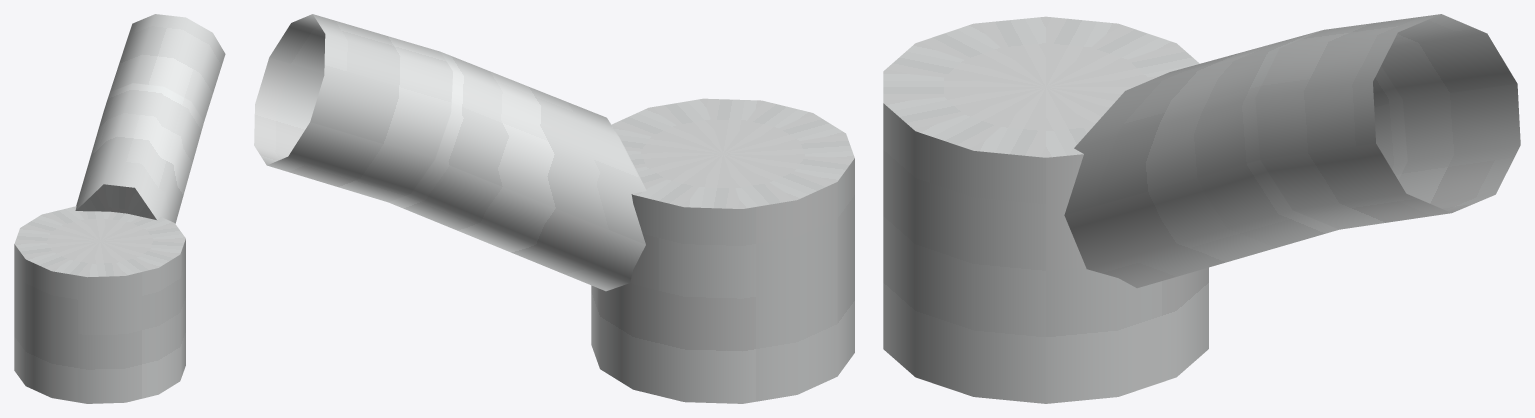
File: nycsignalarm_diagonal8_c1_thin.obj
The picture shows the model from 3 angles, left to right: view 1: azimuth 30°, elevation 25°; view 2: azimuth 150°, elevation 25°; view 3: azimuth 270°, elevation 25°; orthographic projection. The views are drawn at different scales.
Parts seen in each view (by area): view 1: nycsignalarm_diagonal8_c1_thin; view 2: nycsignalarm_diagonal8_c1_thin; view 3: nycsignalarm_diagonal8_c1_thin.
Part boxes in pixels (box(x1,y1,x2,y2)): nycsignalarm_diagonal8_c1_thin: box(14, 14, 225, 403); nycsignalarm_diagonal8_c1_thin: box(254, 14, 854, 403); nycsignalarm_diagonal8_c1_thin: box(883, 14, 1520, 403).
Size of the model in its own units: 1.09 by 0.8795 by 1.09.
